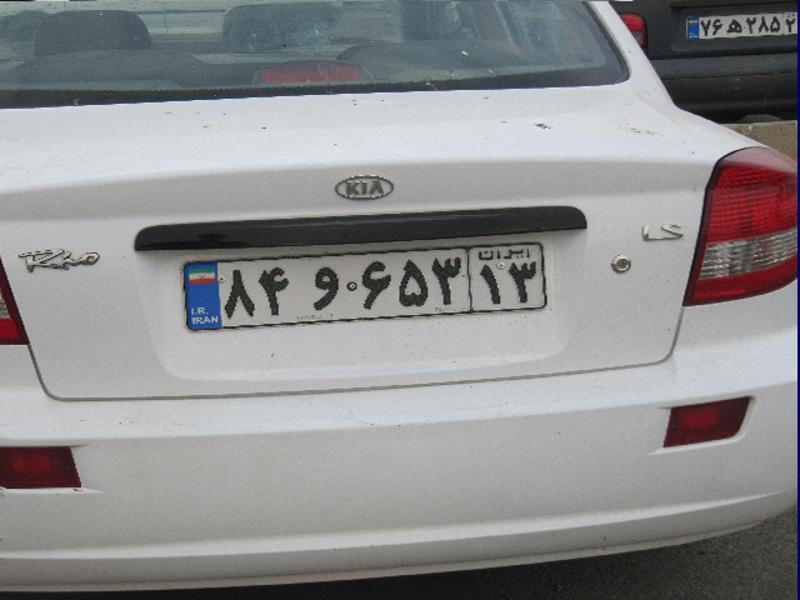Plate: (162, 243, 558, 325)
